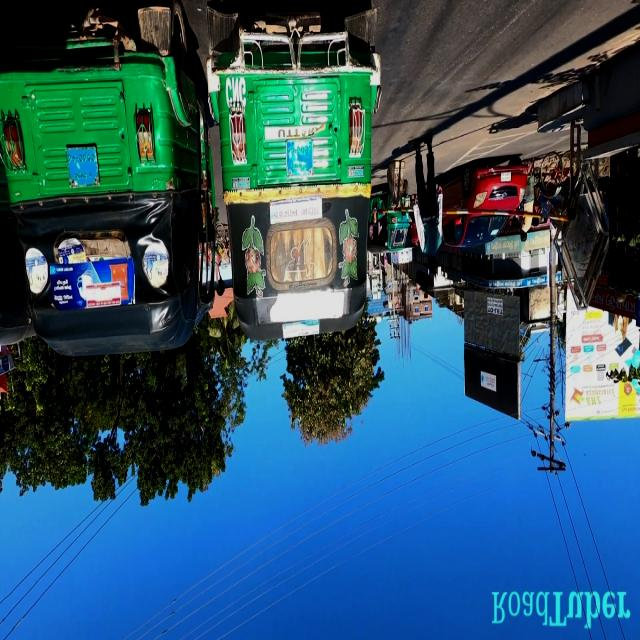red: (444, 160, 530, 256)
